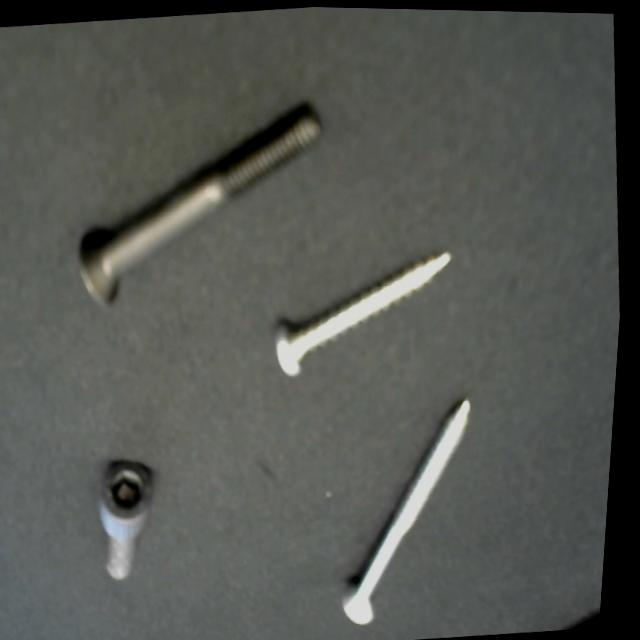FlatHeadSocketScrew: (47, 91, 343, 318)
SheetMetalScrew: (261, 221, 469, 388)
SocketHeadCapScrew: (89, 444, 176, 591)
WoodScrew: (322, 383, 500, 640)
